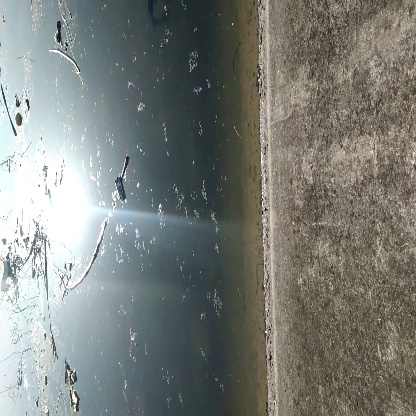branch: (67, 219, 115, 294)
